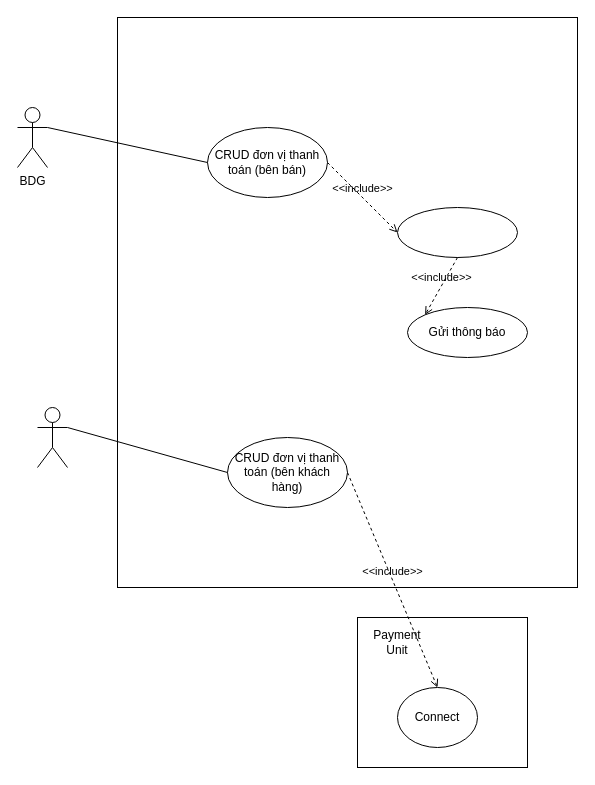
The diagram is 595 pixels wide and 785 high, and some of its shapes have lost their labels. Here are the shapes that lost their labels. From the top down, the centre of each, then its label:
At (x=457, y=232): "Xóa đơn vị đang có người liên kết".
At (x=52, y=437): "Khách hàng".
